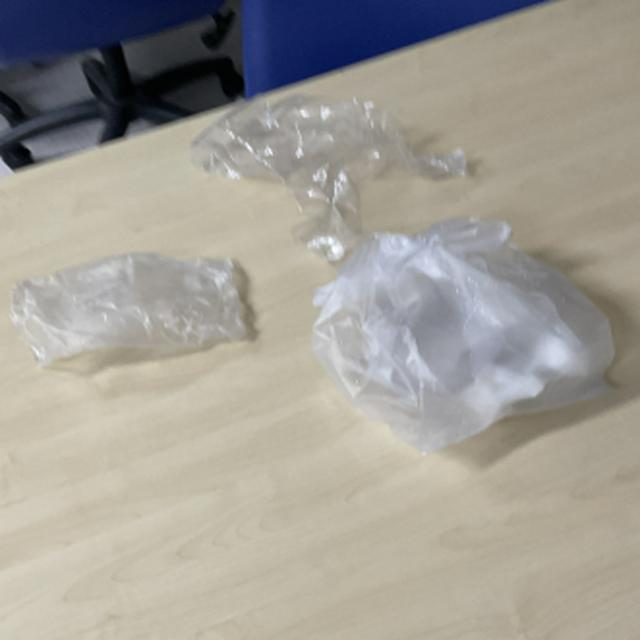Single-layer Plastic: (312, 219, 614, 451), (191, 95, 466, 262), (11, 252, 245, 366)
